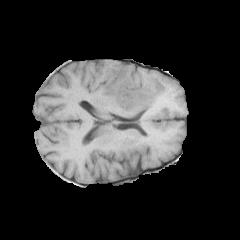glioma: (101, 66, 167, 115)
